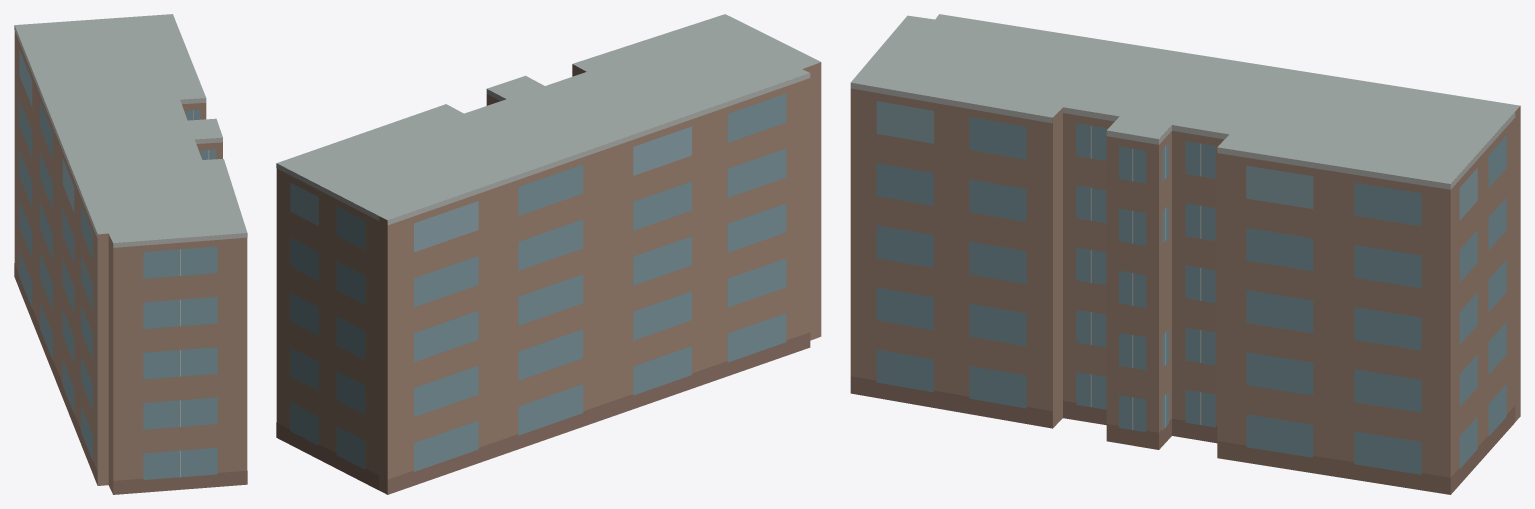
File: survey-upis-32538277.glb
3 views of the same model, side by side, from view 1: azimuth 30°, elevation 25°; view 2: azimuth 150°, elevation 25°; view 3: azimuth 270°, elevation 25° (orthographic). The views are drawn at different scales.
Parts seen in each view (by area): view 1: survey-upis-32538277.tmp; view 2: survey-upis-32538277.tmp; view 3: survey-upis-32538277.tmp.
Boxes of the visible parts, x1,y1,x2,y2 form: survey-upis-32538277.tmp: (14, 14, 247, 494); survey-upis-32538277.tmp: (276, 14, 821, 494); survey-upis-32538277.tmp: (850, 14, 1520, 494).
Size of the model in its own units: 15.5 by 13.2 by 25.79.
